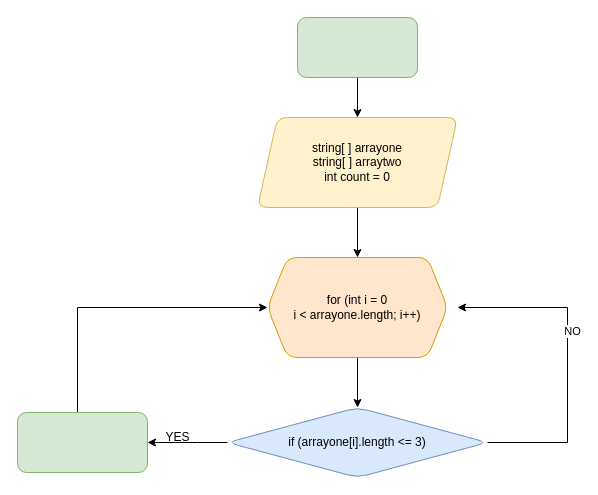
Image size: 598x495. Some labels were removed from this diagram. The shapes that lost their labels are listed below. From the top down, each one's box as (x1, y1, x2, y2) in pixels, then its label:
(296, 16, 418, 78): SecondArrayWithif
(16, 412, 148, 472): arraytwo [count] = arrayone[i] count++
